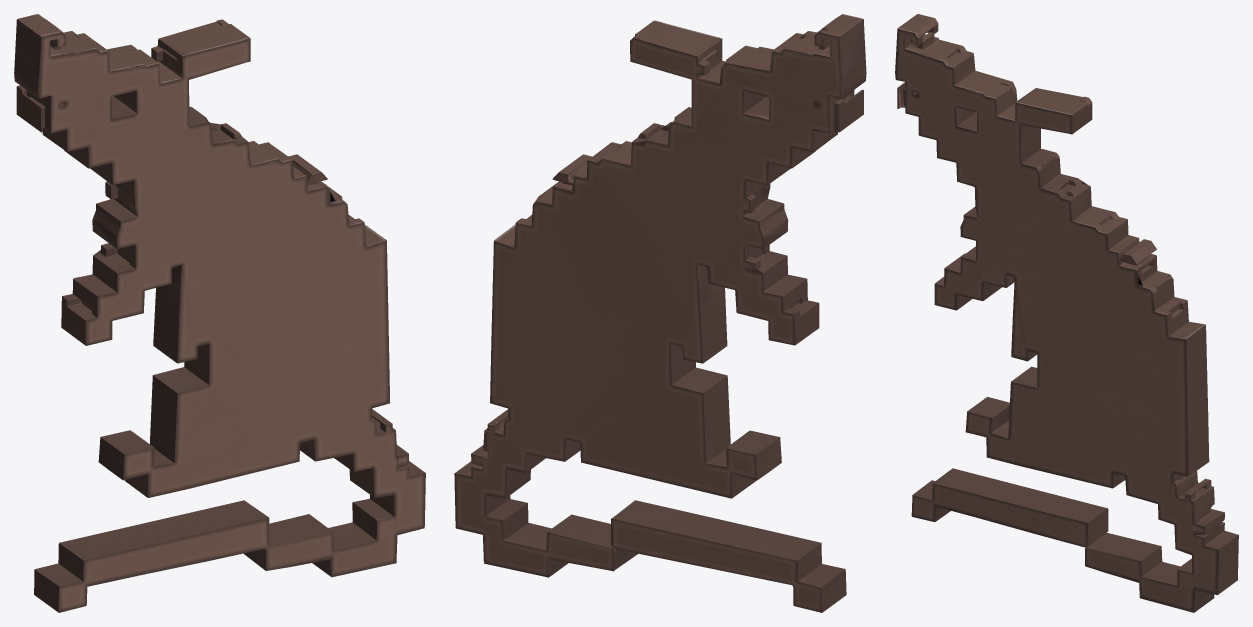
Rendered from mouse.glb.
3 views of the same model, side by side, from view 1: azimuth 30°, elevation 25°; view 2: azimuth 150°, elevation 25°; view 3: azimuth 330°, elevation 25° (orthographic). The views are drawn at different scales.
Parts seen in each view (by area): view 1: output_unwrapped; view 2: output_unwrapped; view 3: output_unwrapped.
Part boxes in pixels (bbox=[...]): output_unwrapped: bbox=[14, 14, 425, 612]; output_unwrapped: bbox=[454, 14, 866, 612]; output_unwrapped: bbox=[895, 14, 1238, 612].
Size of the model in its own units: 1.26 by 1.9 by 0.1393.
Materials: 1 (1 with a texture image).
